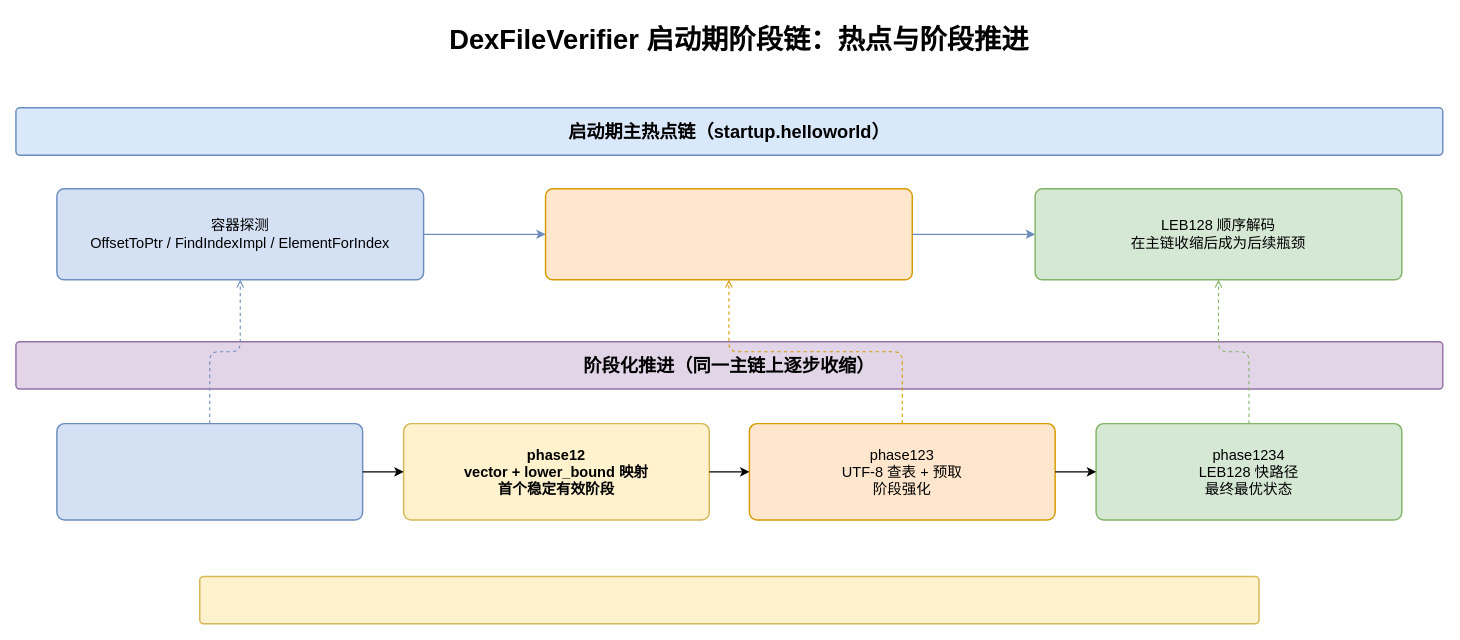
Image size: 1460x640. Some labels were removed from this diagram. Each missing label, with the box of its shape:
phase1 边界缓存 / helper 内联 / 预留容量: (56, 422, 363, 520)
UTF-8 与字符串校验 ASCII 快路径 / 查表 / UTF helper: (544, 188, 913, 280)
阶段关系：phase12 先收缩容器探测链，后续阶段持续补强: (199, 575, 1259, 624)
